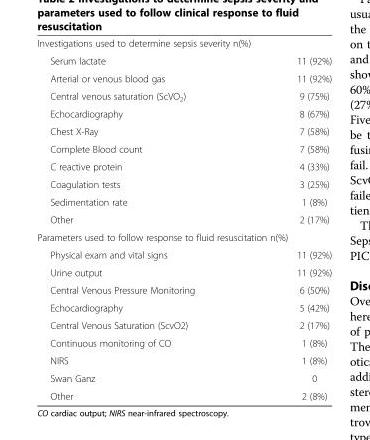table: (36, 37, 331, 401)
table column: (36, 37, 291, 401), (291, 37, 331, 401)
table projected row header: (36, 228, 331, 245), (36, 37, 331, 51)
table row: (36, 51, 331, 69), (36, 86, 331, 104), (36, 104, 331, 122), (36, 139, 331, 157), (36, 157, 331, 175), (36, 192, 331, 210), (36, 210, 331, 228), (36, 245, 331, 263), (36, 280, 331, 298), (36, 298, 331, 316), (36, 333, 331, 351), (36, 351, 331, 369), (36, 69, 331, 86), (36, 122, 331, 139), (36, 175, 331, 192), (36, 228, 331, 245), (36, 263, 331, 280), (36, 316, 331, 333), (36, 369, 331, 386), (36, 386, 331, 401), (36, 37, 331, 51)
